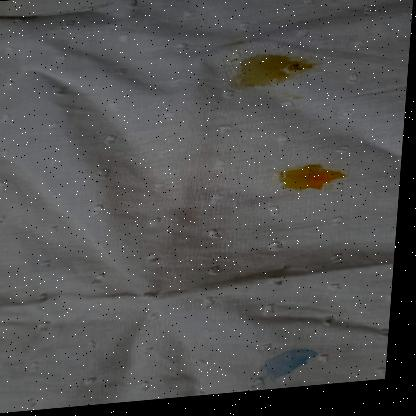spot: (227, 52, 317, 102), (253, 349, 331, 392), (281, 161, 351, 203)
